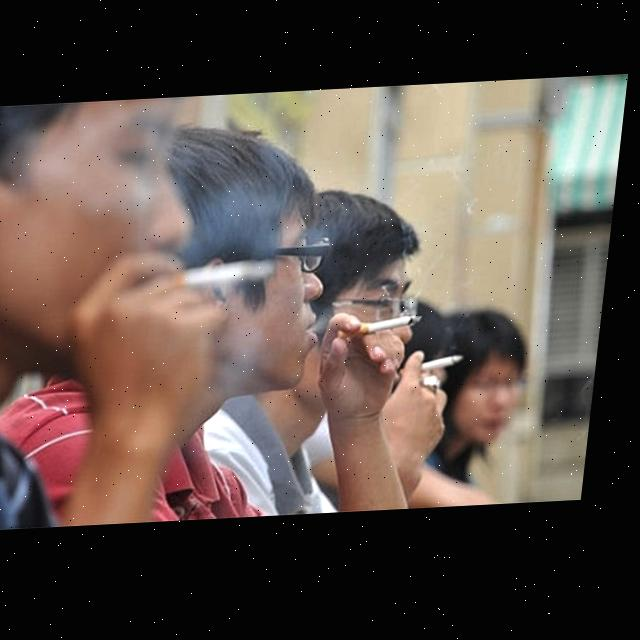cigarette: (175, 262, 283, 296), (345, 320, 430, 344), (408, 360, 473, 383)
